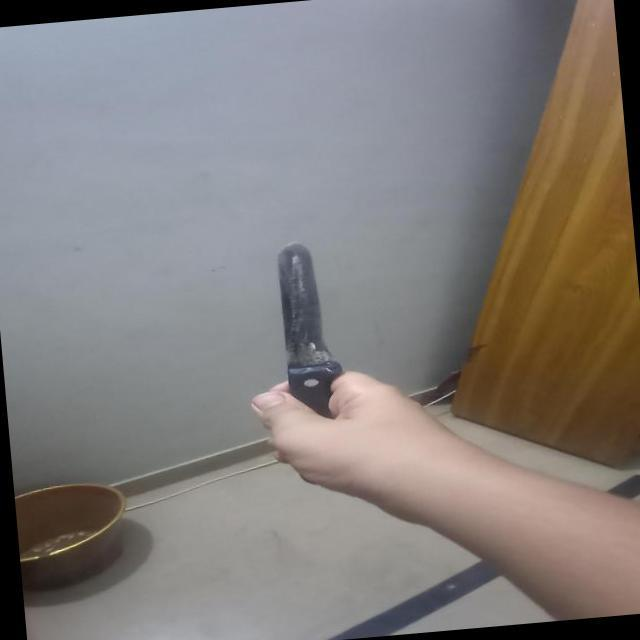Knife: (233, 222, 354, 480)
